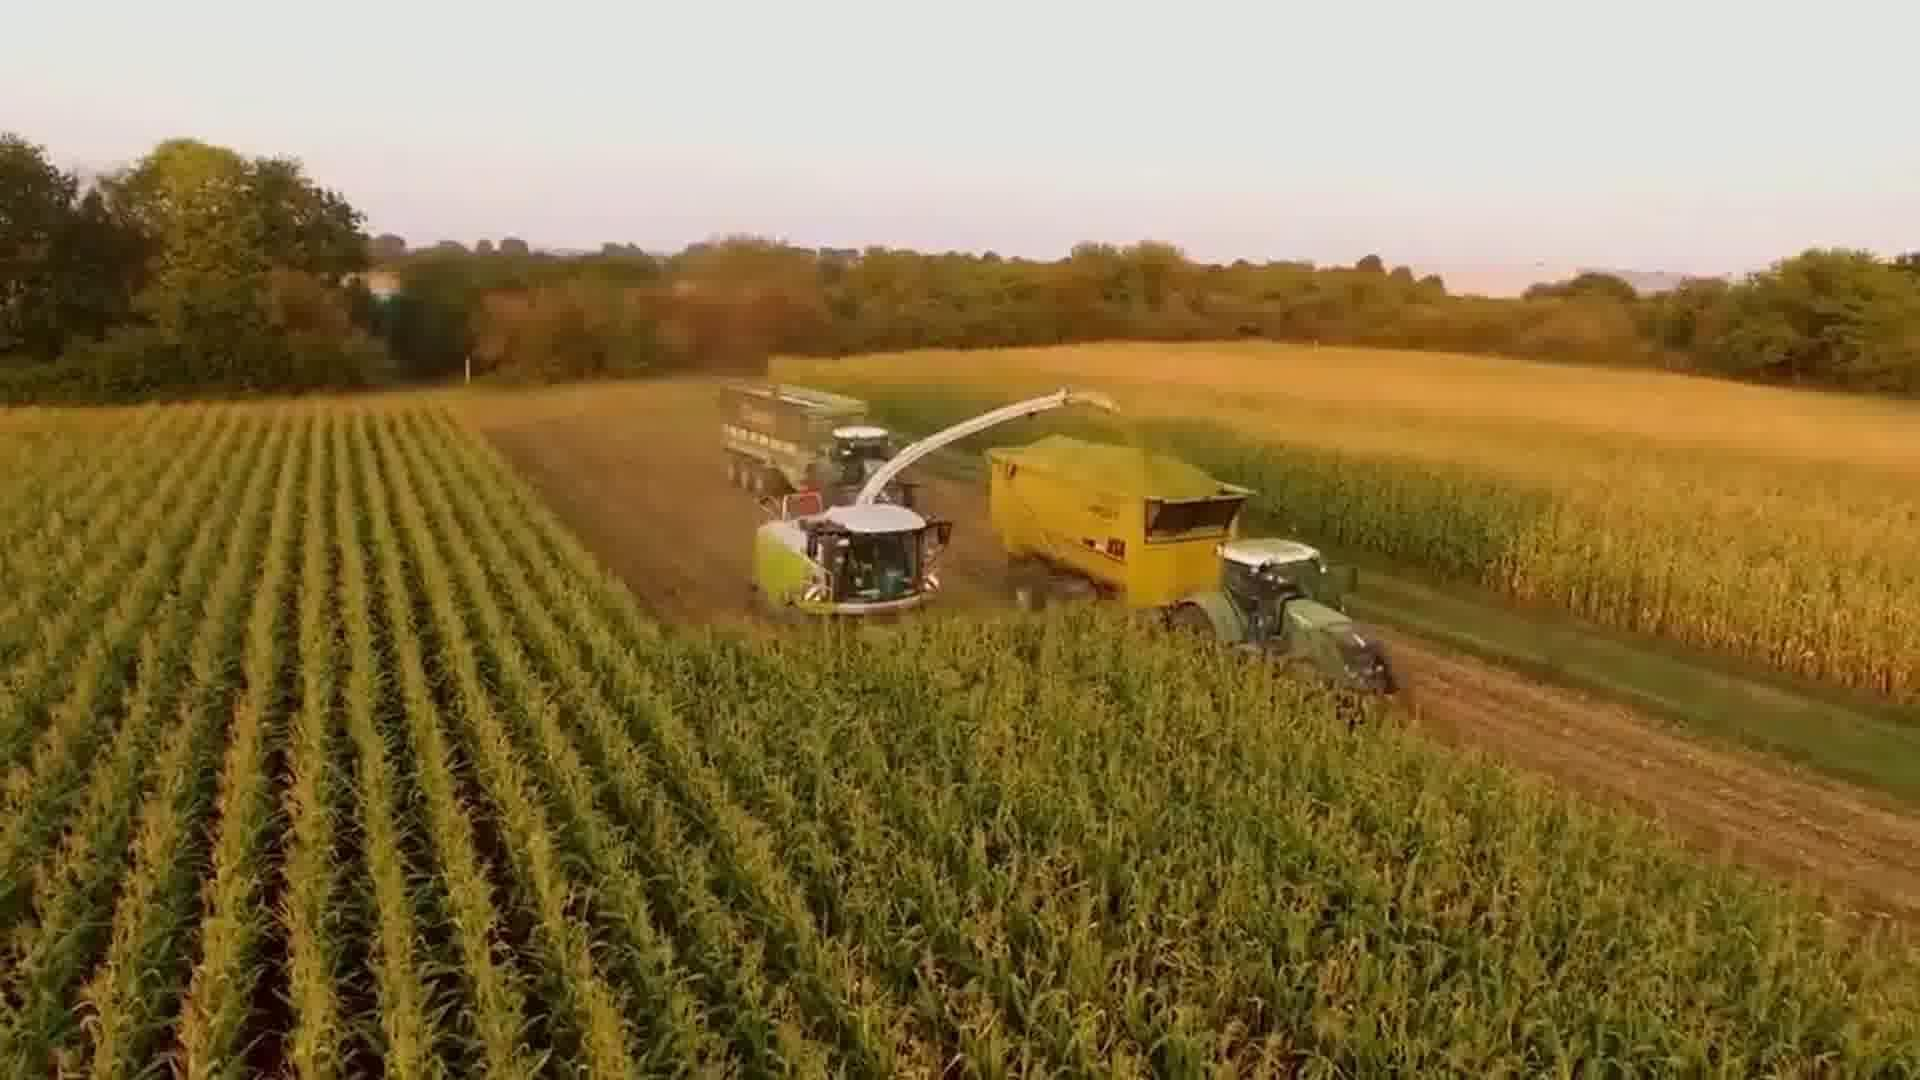combine harvester: (748, 382, 1080, 637)
tractor: (1166, 530, 1403, 732), (810, 419, 923, 512)
trailer: (984, 427, 1259, 641), (713, 371, 870, 506)
